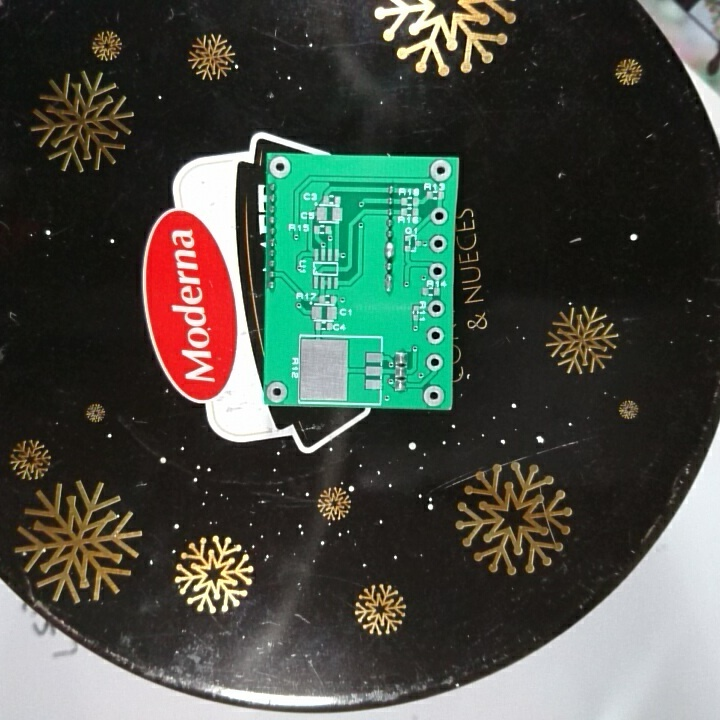F: (268, 154, 294, 180), (428, 158, 453, 183), (422, 383, 448, 407), (265, 379, 289, 404), (428, 233, 449, 257), (429, 206, 450, 227), (425, 298, 446, 319), (425, 326, 446, 347), (425, 352, 445, 374), (427, 261, 446, 280)
P: (382, 240, 396, 261), (383, 273, 396, 293)
